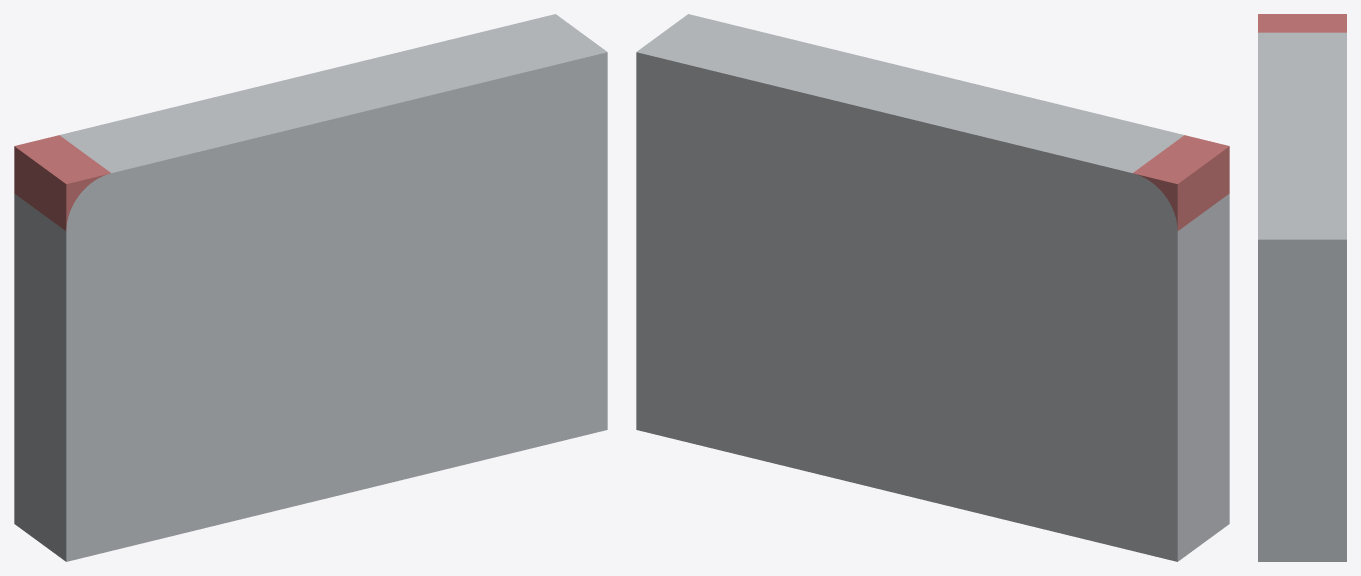
Rendered from step_02.glb.
3 renders of one model, left to right at view 1: azimuth 30°, elevation 25°; view 2: azimuth 150°, elevation 25°; view 3: azimuth 270°, elevation 25°, orthographic. The views are drawn at different scales.
Visible parts, largest first — view 1: part__radius plate, removed__radius plate; view 2: part__radius plate, removed__radius plate; view 3: part__radius plate, removed__radius plate.
Part boxes in pixels (left/top/right/bottom): part__radius plate: left=14, top=14, right=607, bottom=561; removed__radius plate: left=14, top=135, right=110, bottom=230; part__radius plate: left=636, top=14, right=1229, bottom=561; removed__radius plate: left=1133, top=135, right=1229, bottom=230; part__radius plate: left=1258, top=32, right=1346, bottom=561; removed__radius plate: left=1258, top=14, right=1346, bottom=32.
Size of the model in its own units: 60 by 40 by 10.
